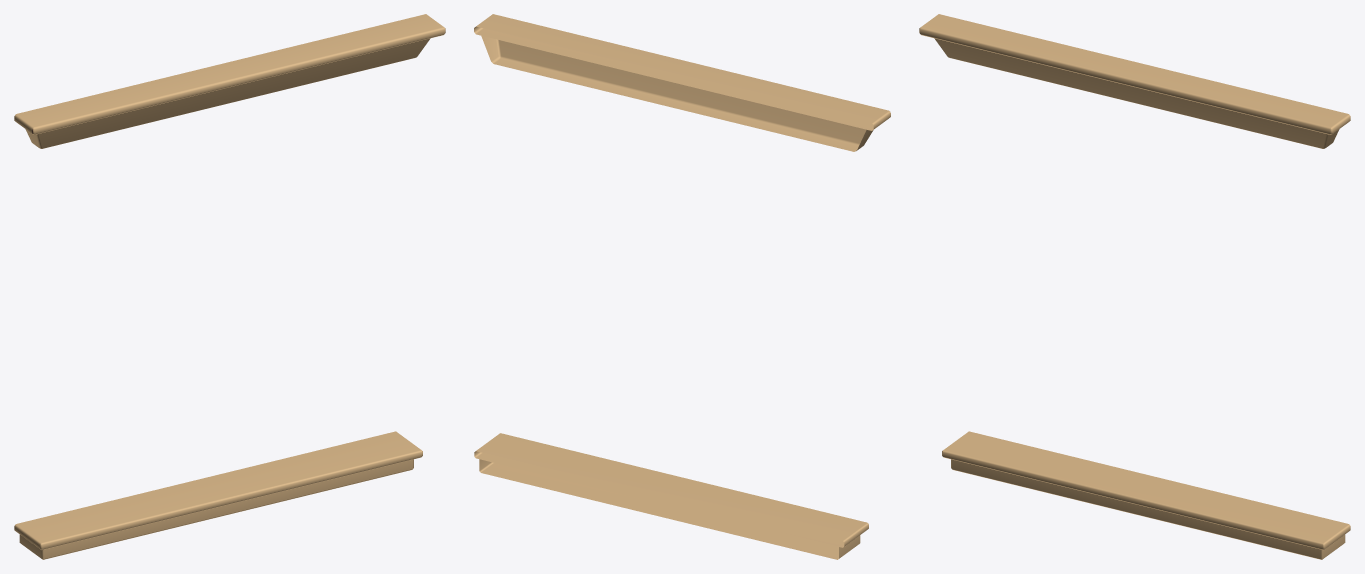
The model's file is DBK_WinBig_Trim_E_Full.fbx.
3 views of the same model, side by side, from view 1: azimuth 30°, elevation 25°; view 2: azimuth 150°, elevation 25°; view 3: azimuth 330°, elevation 25° (orthographic). The views are drawn at different scales.
Visible parts, largest first — view 1: DBK_WinBig_Trim_E_Full; view 2: DBK_WinBig_Trim_E_Full; view 3: DBK_WinBig_Trim_E_Full.
Boxes of the visible parts, left/top/right/bottom form: DBK_WinBig_Trim_E_Full: left=14, top=14, right=445, bottom=559; DBK_WinBig_Trim_E_Full: left=474, top=14, right=890, bottom=559; DBK_WinBig_Trim_E_Full: left=919, top=14, right=1350, bottom=559.
Bounding box in the file's own units: 239 × 247 × 34.1.
